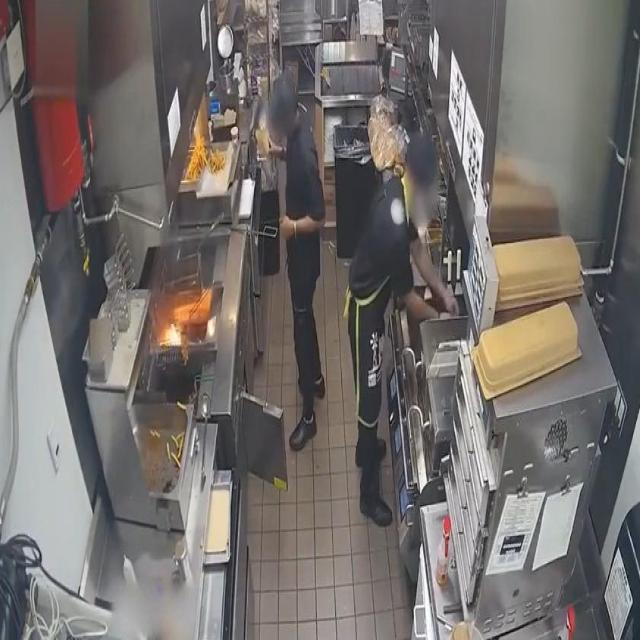smoke: (158, 318, 186, 348)
